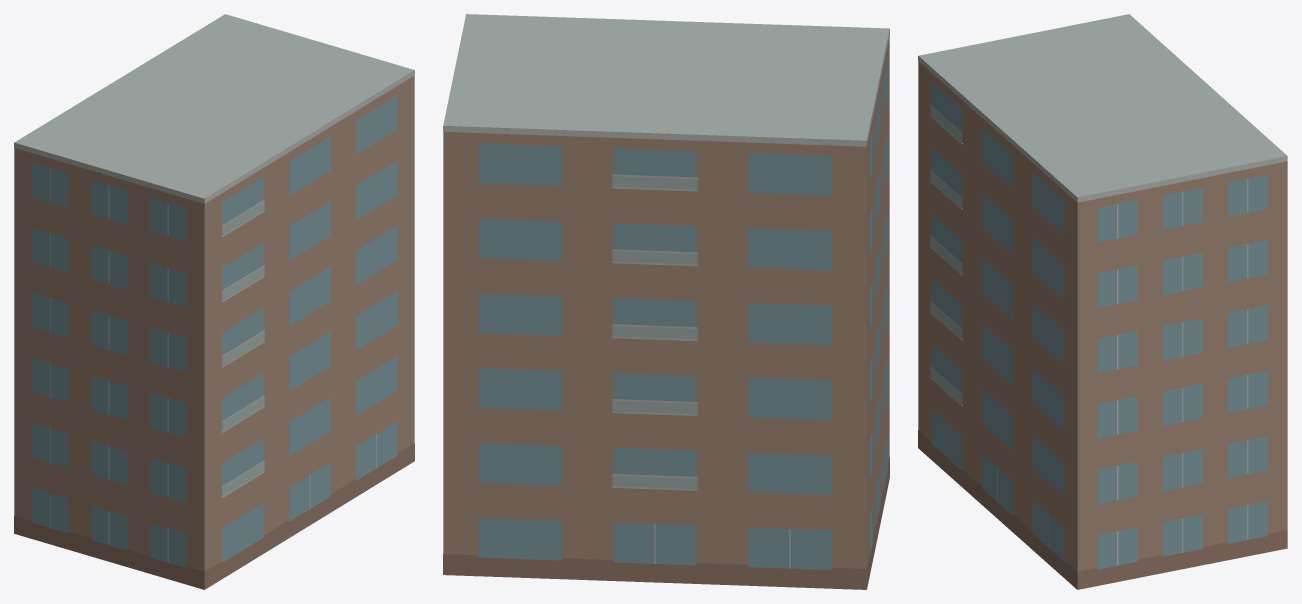
The model's file is survey-upis-32758086.glb.
The picture shows the model from 3 angles, left to right: view 1: azimuth 30°, elevation 25°; view 2: azimuth 150°, elevation 25°; view 3: azimuth 270°, elevation 25°; orthographic projection. The views are drawn at different scales.
Parts seen in each view (by area): view 1: survey-upis-32758086.tmp; view 2: survey-upis-32758086.tmp; view 3: survey-upis-32758086.tmp.
Part boxes in pixels (x1,y1,x2,y2): survey-upis-32758086.tmp: (14, 14, 414, 589); survey-upis-32758086.tmp: (443, 14, 889, 589); survey-upis-32758086.tmp: (918, 14, 1287, 589).
Size of the model in its own units: 18.36 by 18.3 by 15.62.
